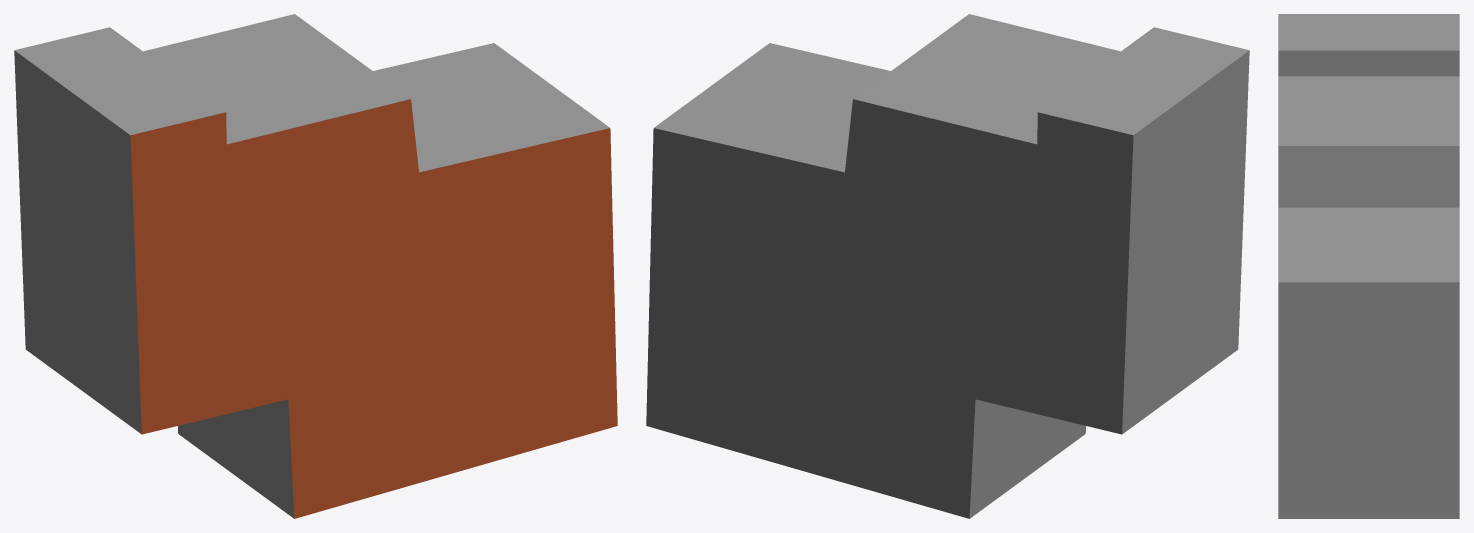
File: construction_4750_assumed_A_Casa_h6m.obj
3 renders of one model, left to right at view 1: azimuth 30°, elevation 25°; view 2: azimuth 150°, elevation 25°; view 3: azimuth 270°, elevation 25°, orthographic. The views are drawn at different scales.
Visible parts, largest first — view 1: construction_4750_assumed_A_Casa; view 2: construction_4750_assumed_A_Casa; view 3: construction_4750_assumed_A_Casa.
Part boxes in pixels (box(x1,y1,x2,y2)): construction_4750_assumed_A_Casa: box(14, 14, 617, 518); construction_4750_assumed_A_Casa: box(646, 14, 1249, 518); construction_4750_assumed_A_Casa: box(1278, 14, 1459, 518).
Bounding box in the file's own units: 14.53 × 12.07 × 6.
